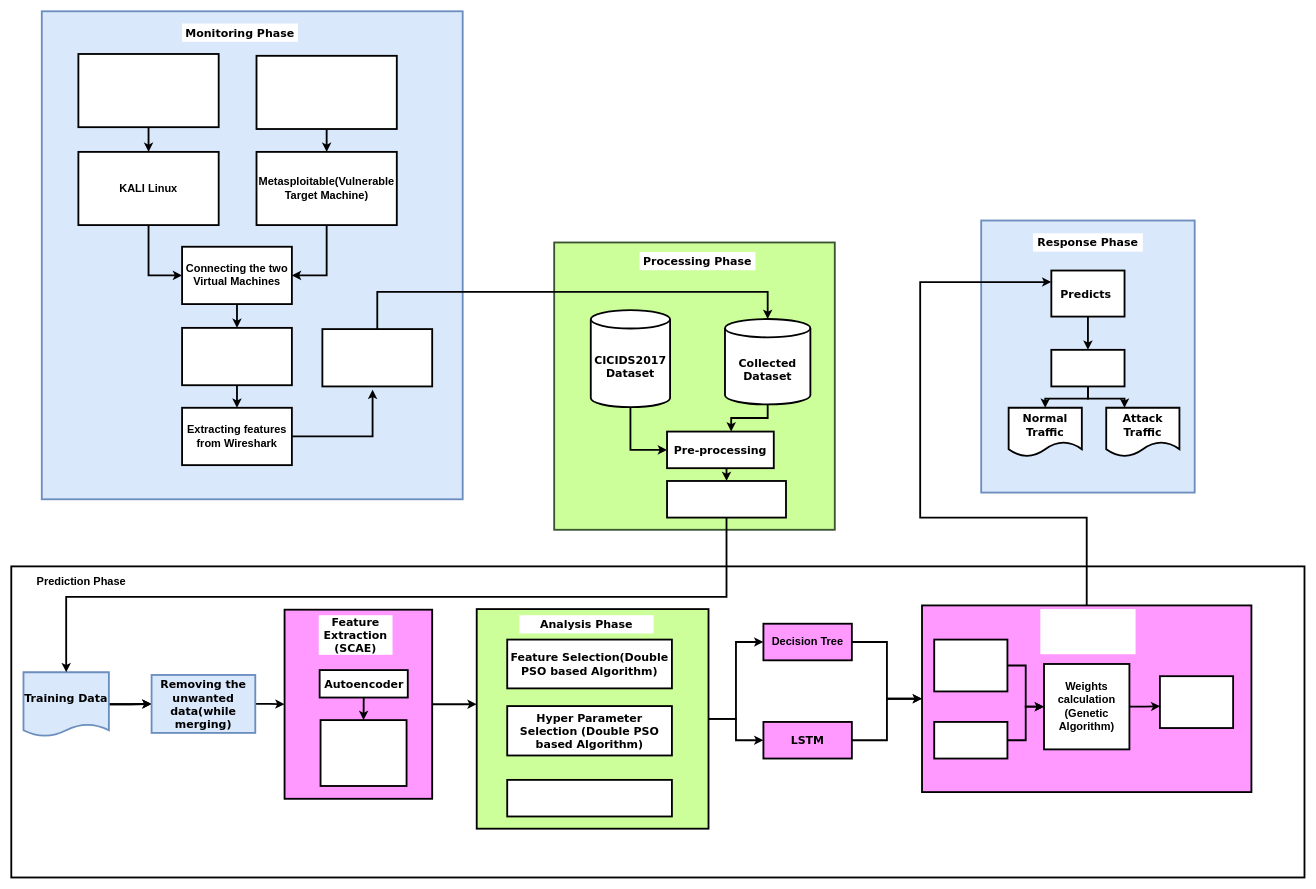
The diagram is 1316 pixels wide and 889 high, and some of its shapes have lost their labels. Here are the shapes that lost their labels. From the top down, the box of each, then its label:
(77, 53, 219, 128): Virtual Machine1(Cloud Network Environment)
(255, 55, 397, 130): Virtual Machine2(Internal Network
(181, 327, 292, 386): Generating Attack(KALI -> Metasploitable)
(321, 328, 433, 387): Extracting useful features using CICFlowmeter
(1050, 349, 1125, 387): Taking reaction
(666, 480, 787, 518): Merging the two Datasets
(1040, 609, 1135, 654): Weighted Average Ensemble Model
(933, 638, 1008, 692): Decision Tree predicts
(1159, 675, 1234, 729): Weighted Ensemble Model
(319, 719, 407, 787): Contractive loss functioon
(933, 721, 1008, 759): LSTM predicts
(506, 779, 673, 817): Training model
